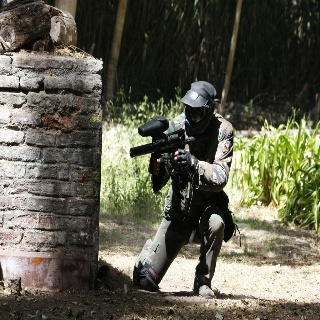rifle: (127, 117, 197, 171)
